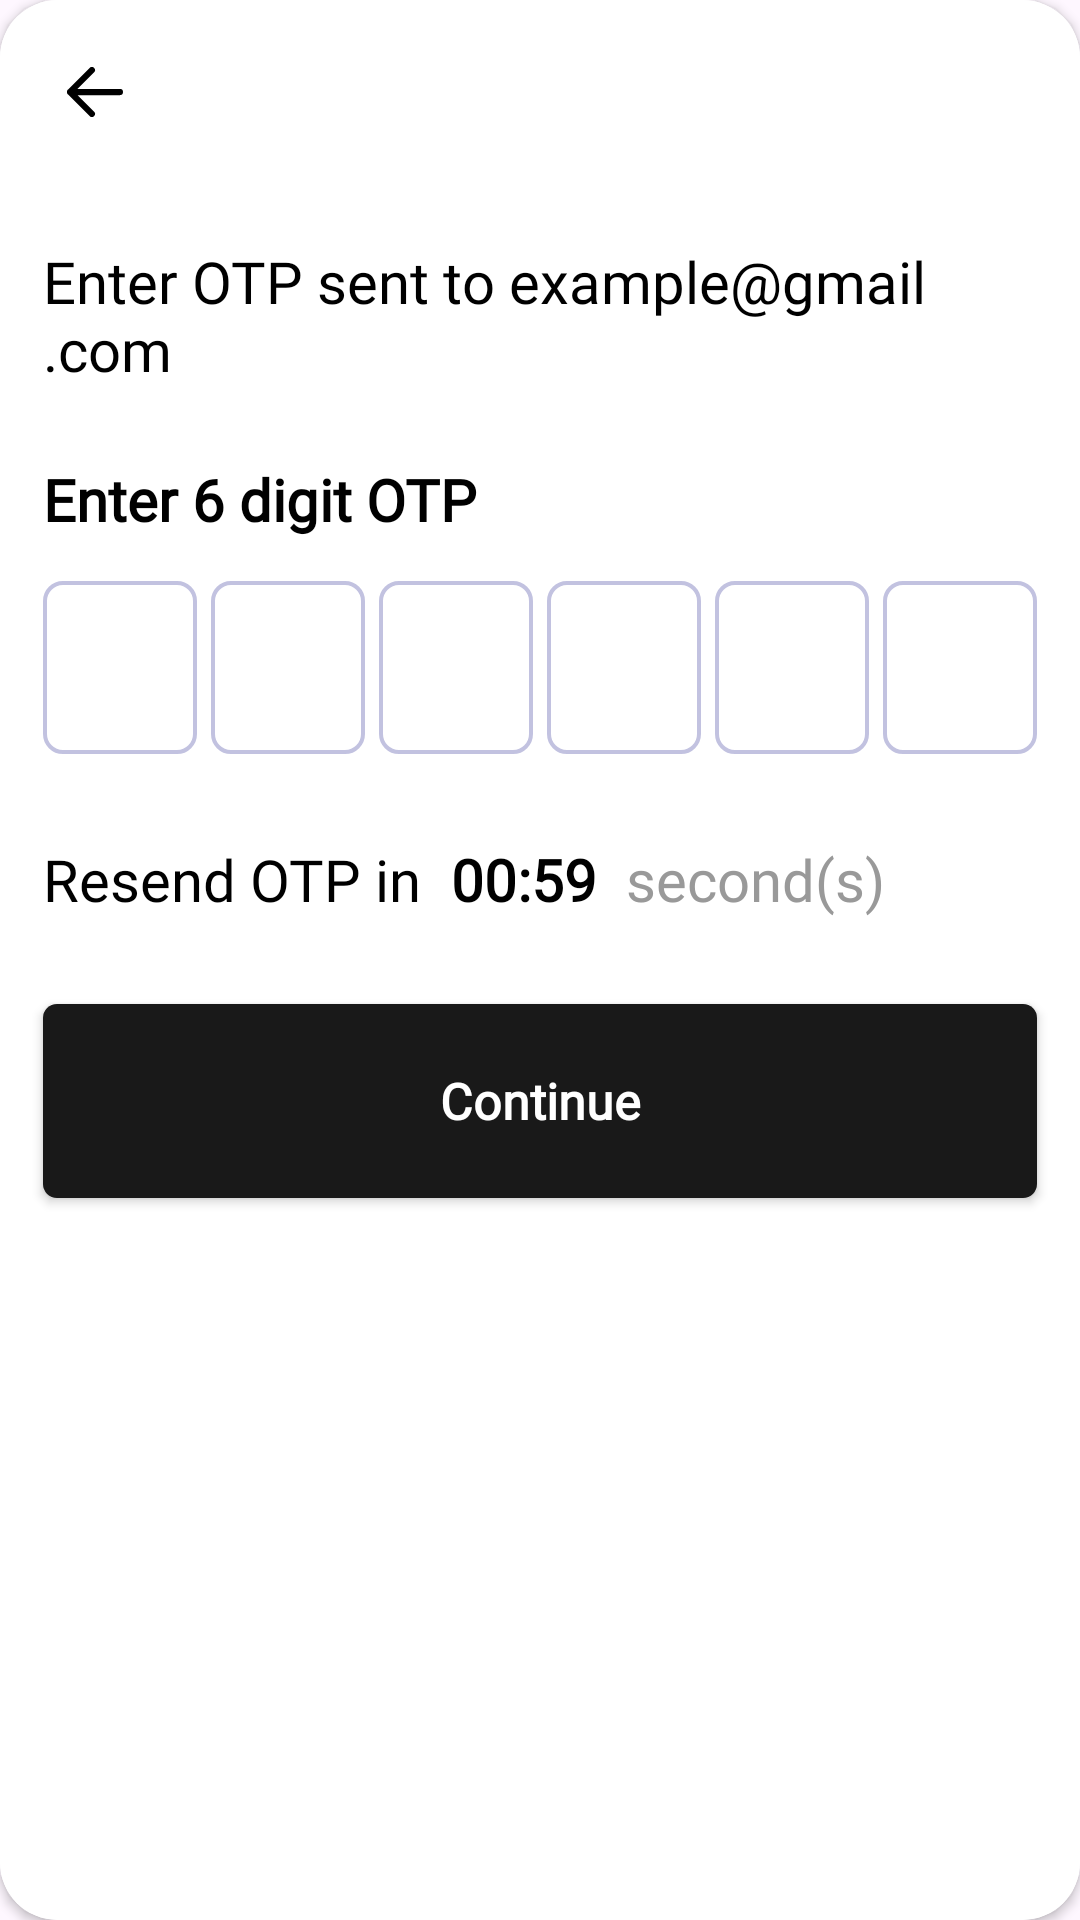

Icons on this 1080px×1920px Android screen, each with the point to tap as [x,y]:
back: [95,92]
